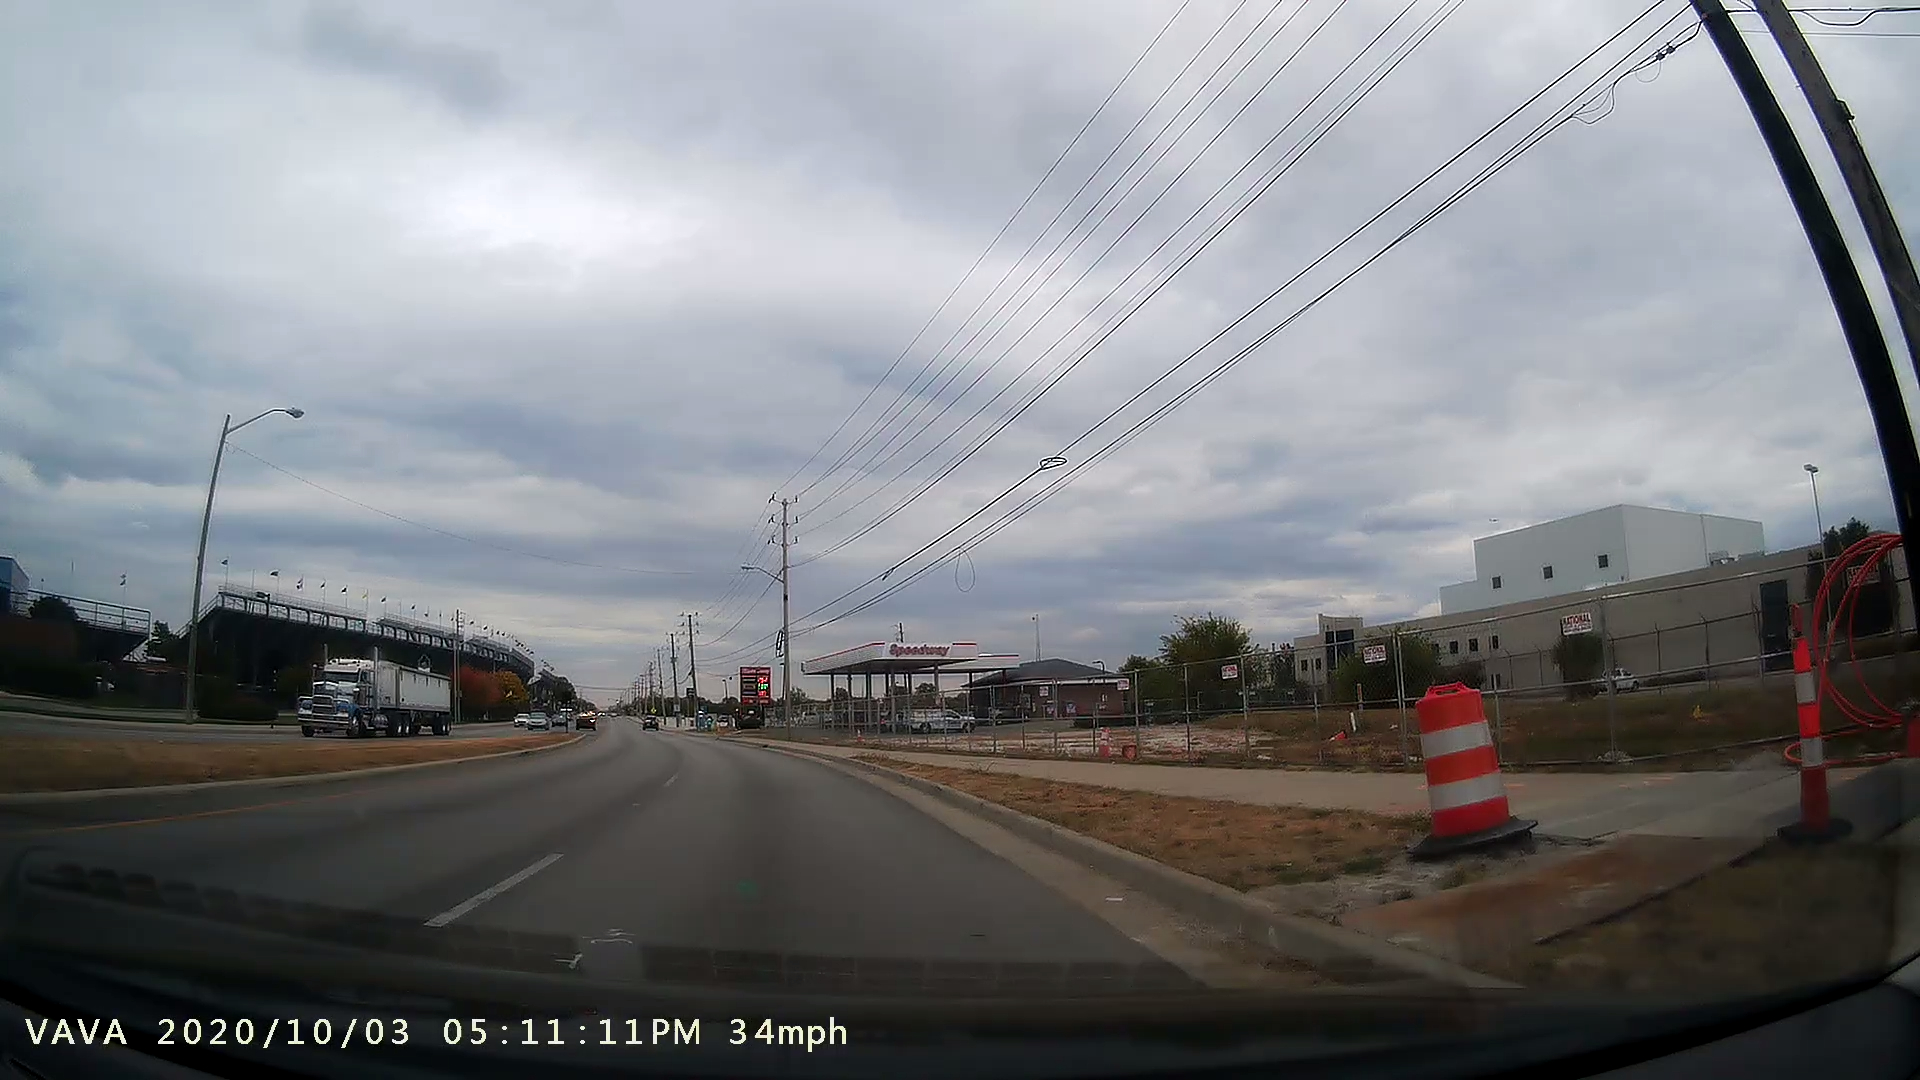const_barrel: (1386, 659, 1542, 872)
const_looper_cone: (1767, 600, 1854, 865)
